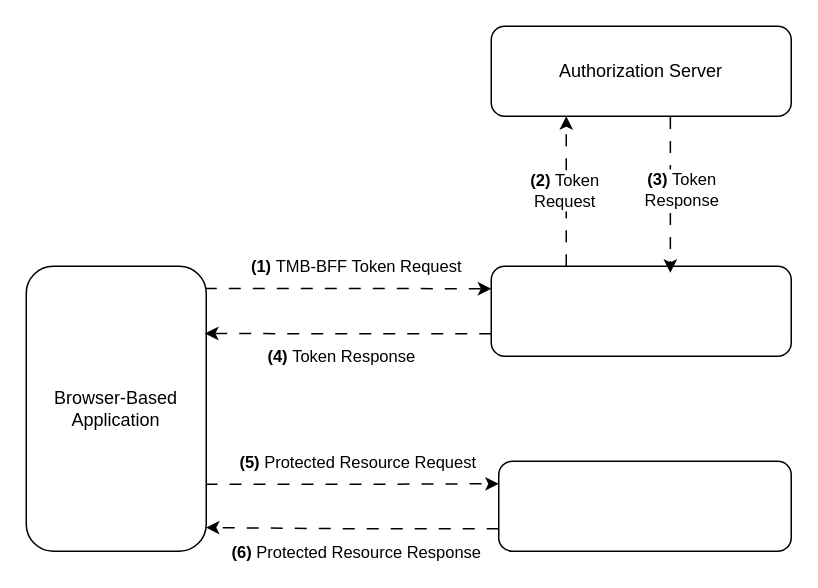
Image size: 818x588. Some labels were removed from this diagram. Here are the shapes that lost their labels. From the top down, the centre of each, then its label:
At (x=640, y=310): "Token-Mediating Backend".
At (x=644, y=505): "Resource Server".
